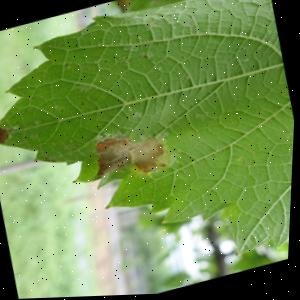Folha: (0, 0, 300, 300)
Fungo: (89, 121, 182, 188), (91, 131, 144, 180), (171, 17, 207, 47), (71, 76, 103, 101), (187, 108, 219, 129), (118, 40, 147, 59), (124, 108, 150, 126), (40, 150, 62, 169), (240, 52, 257, 68), (0, 123, 12, 144), (27, 131, 44, 142), (33, 117, 44, 127)
